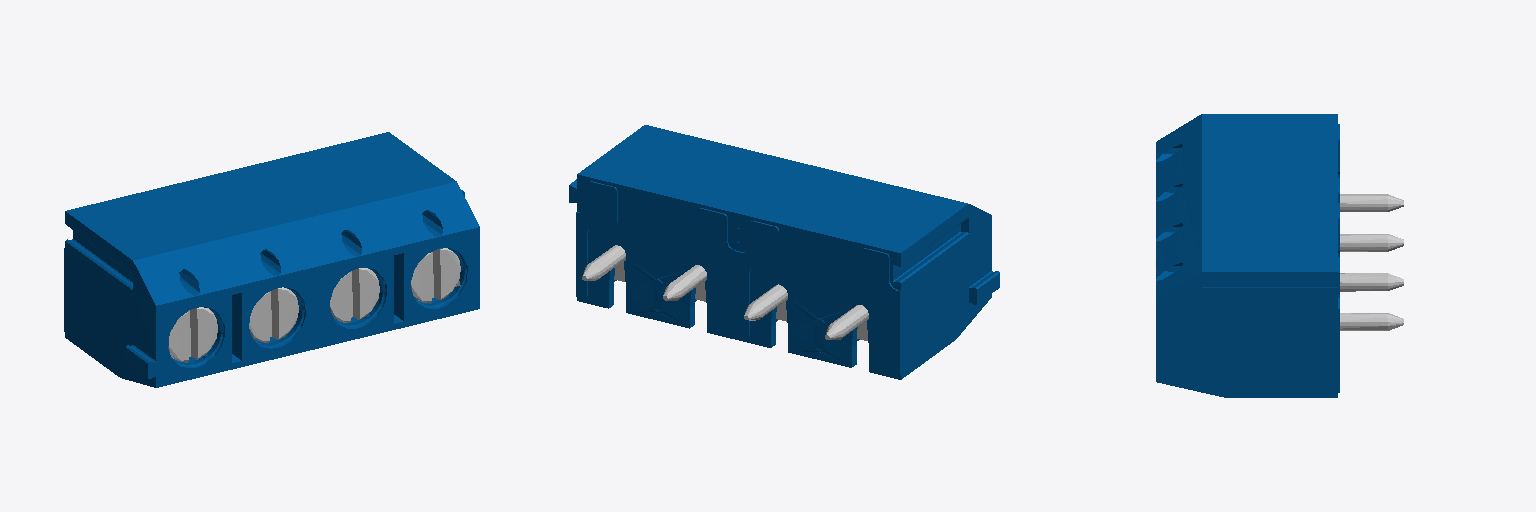
File: OSTTCXX2162.obj
The picture shows the model from 3 angles: view 1: azimuth 30°, elevation 25°; view 2: azimuth 150°, elevation 25°; view 3: azimuth 270°, elevation 25°; orthographic projection.
Visible parts, largest first — view 1: OSTTCXX2162; view 2: OSTTCXX2162; view 3: OSTTCXX2162.
Part boxes in pixels (x1,y1,x2,y2): OSTTCXX2162: (64, 132, 479, 387); OSTTCXX2162: (569, 125, 999, 379); OSTTCXX2162: (1156, 114, 1403, 397).
Size of the model in its own units: 8.39 by 2.99 by 5.32.